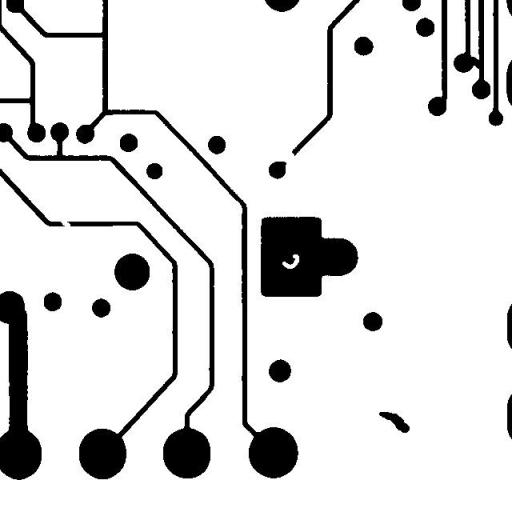copper: (371, 404, 417, 440)
open: (272, 144, 302, 170), (51, 210, 78, 235)
pin-hole: (274, 246, 306, 276)
short: (462, 49, 491, 77)
